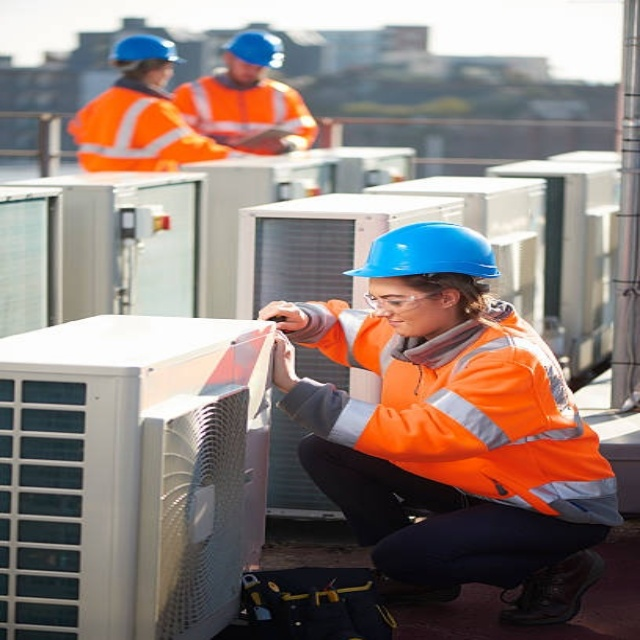Gafas: (358, 290, 445, 312)
Sin_guantes: (264, 326, 303, 387), (256, 296, 311, 337)
Sin_mascara: (376, 314, 414, 337)
